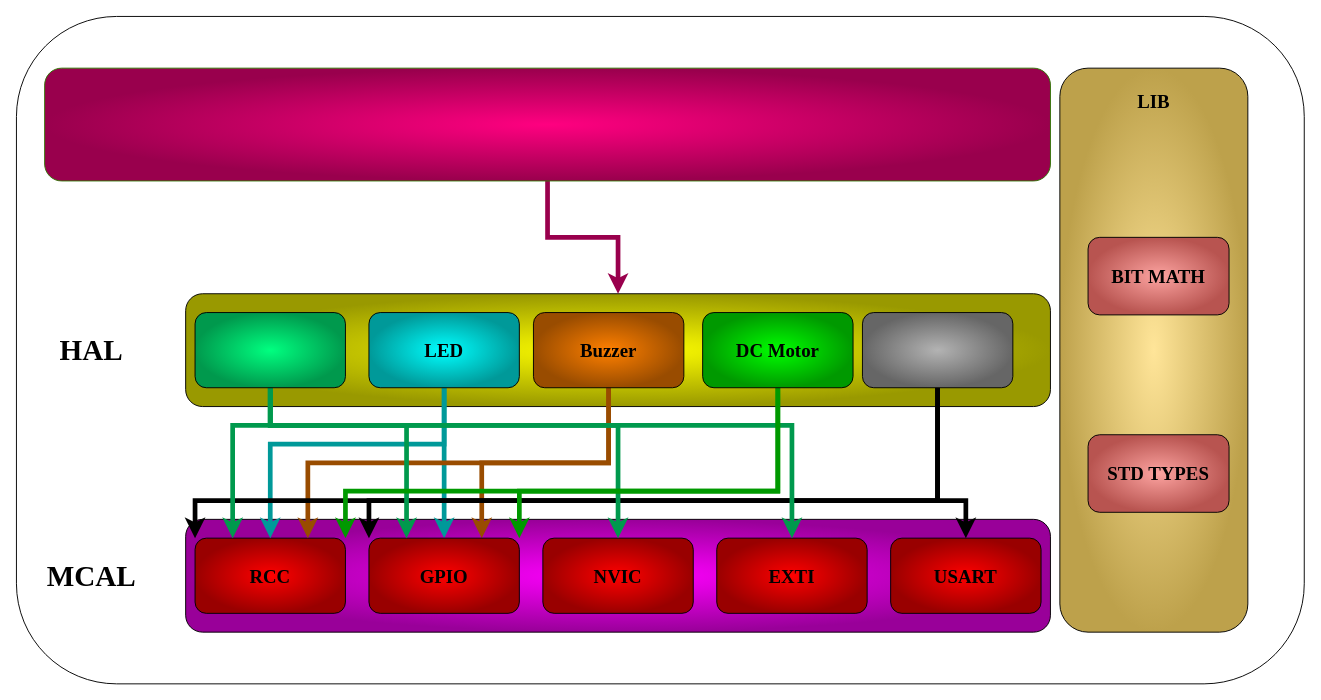
This 1321x700 diagram has some shape labels left out. The centre of each missing label's shape, as x and y in pixels:
APP: point 547,124
Communication: point 937,350
Push Button: point 269,350
